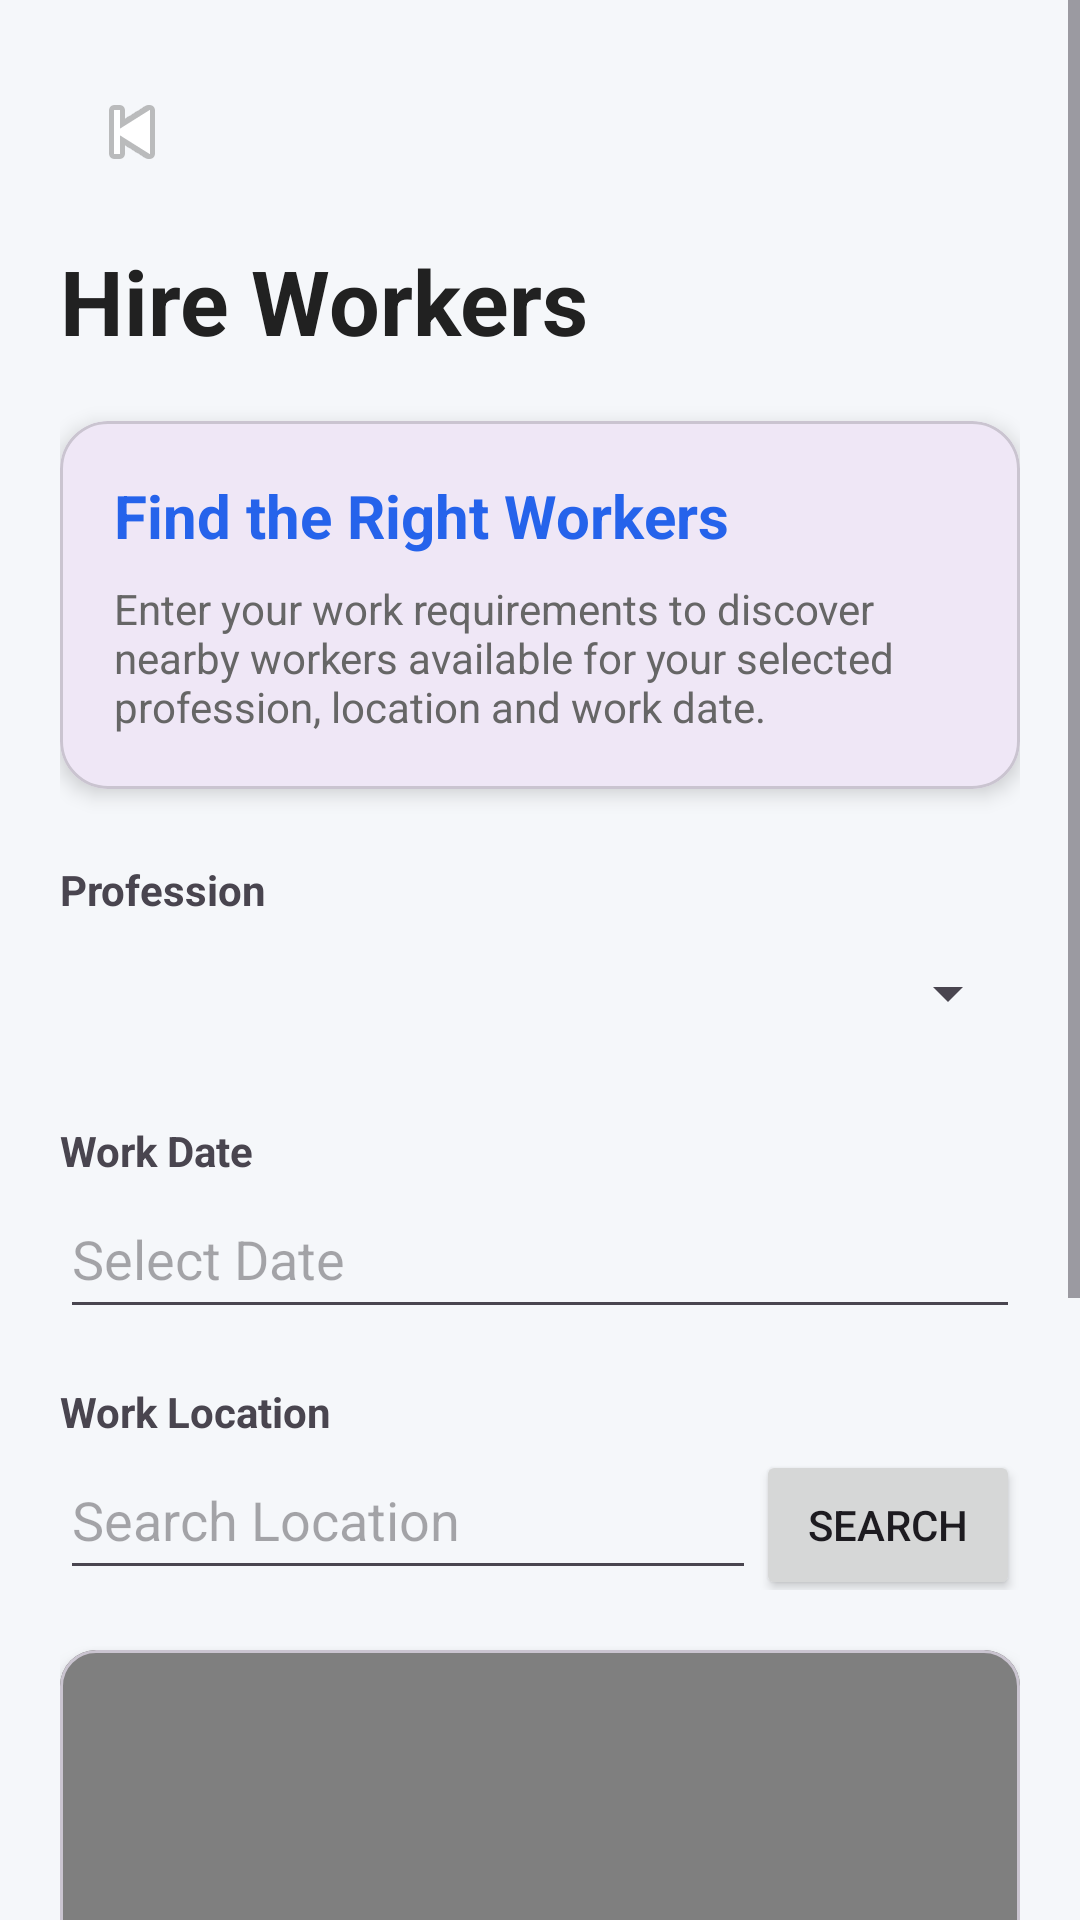

Icons on this 1080px×1920px Android screen, each with the point to tap as point (x, y):
Back: point (132, 132)
